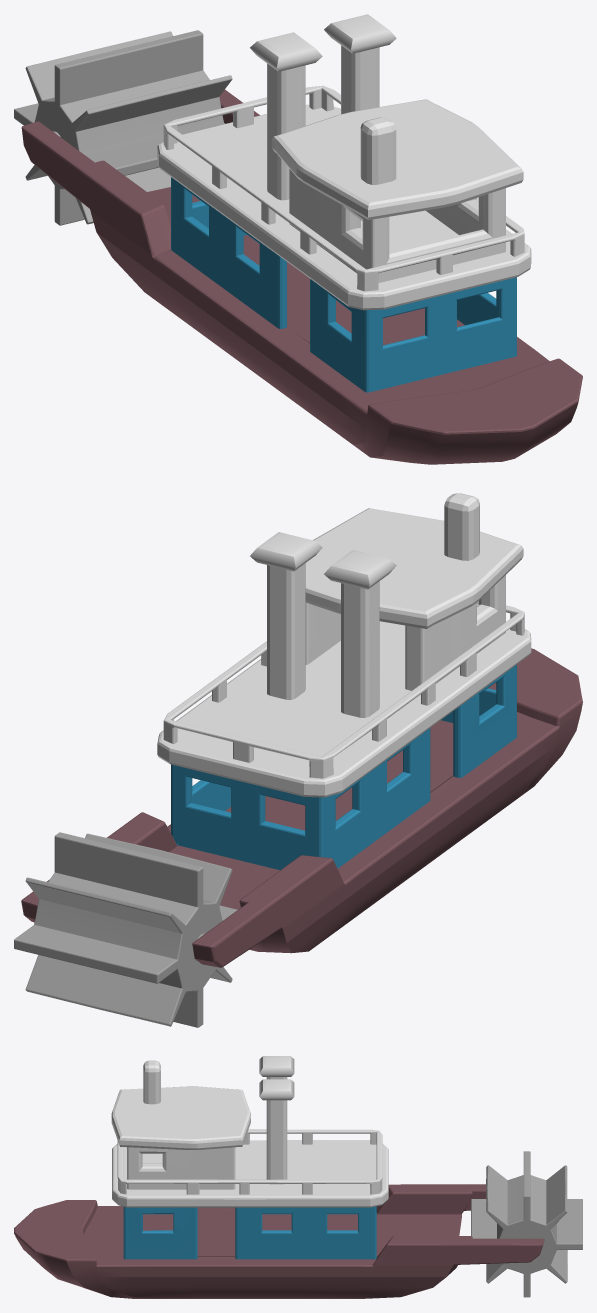
File: SteamBoat.fbx
3 views of the same model, one above another, from view 1: azimuth 30°, elevation 25°; view 2: azimuth 150°, elevation 25°; view 3: azimuth 270°, elevation 25° (orthographic). The views are drawn at different scales.
Visible parts, largest first — view 1: pCube1, pCylinder2; view 2: pCube1, pCylinder2; view 3: pCube1, pCylinder2.
Part boxes in pixels (left/top/right/bottom): pCube1: left=21, top=14, right=582, bottom=464; pCylinder2: left=14, top=30, right=232, bottom=225; pCube1: left=21, top=493, right=582, bottom=967; pCylinder2: left=14, top=832, right=237, bottom=1027; pCube1: left=14, top=1056, right=544, bottom=1298; pCylinder2: left=471, top=1151, right=582, bottom=1297.
Bounding box in the file's own units: 278 × 446 × 1106.
